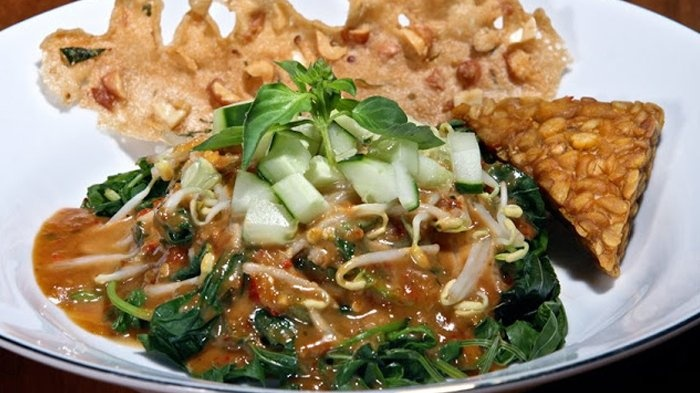pecel: (22, 64, 586, 390)
